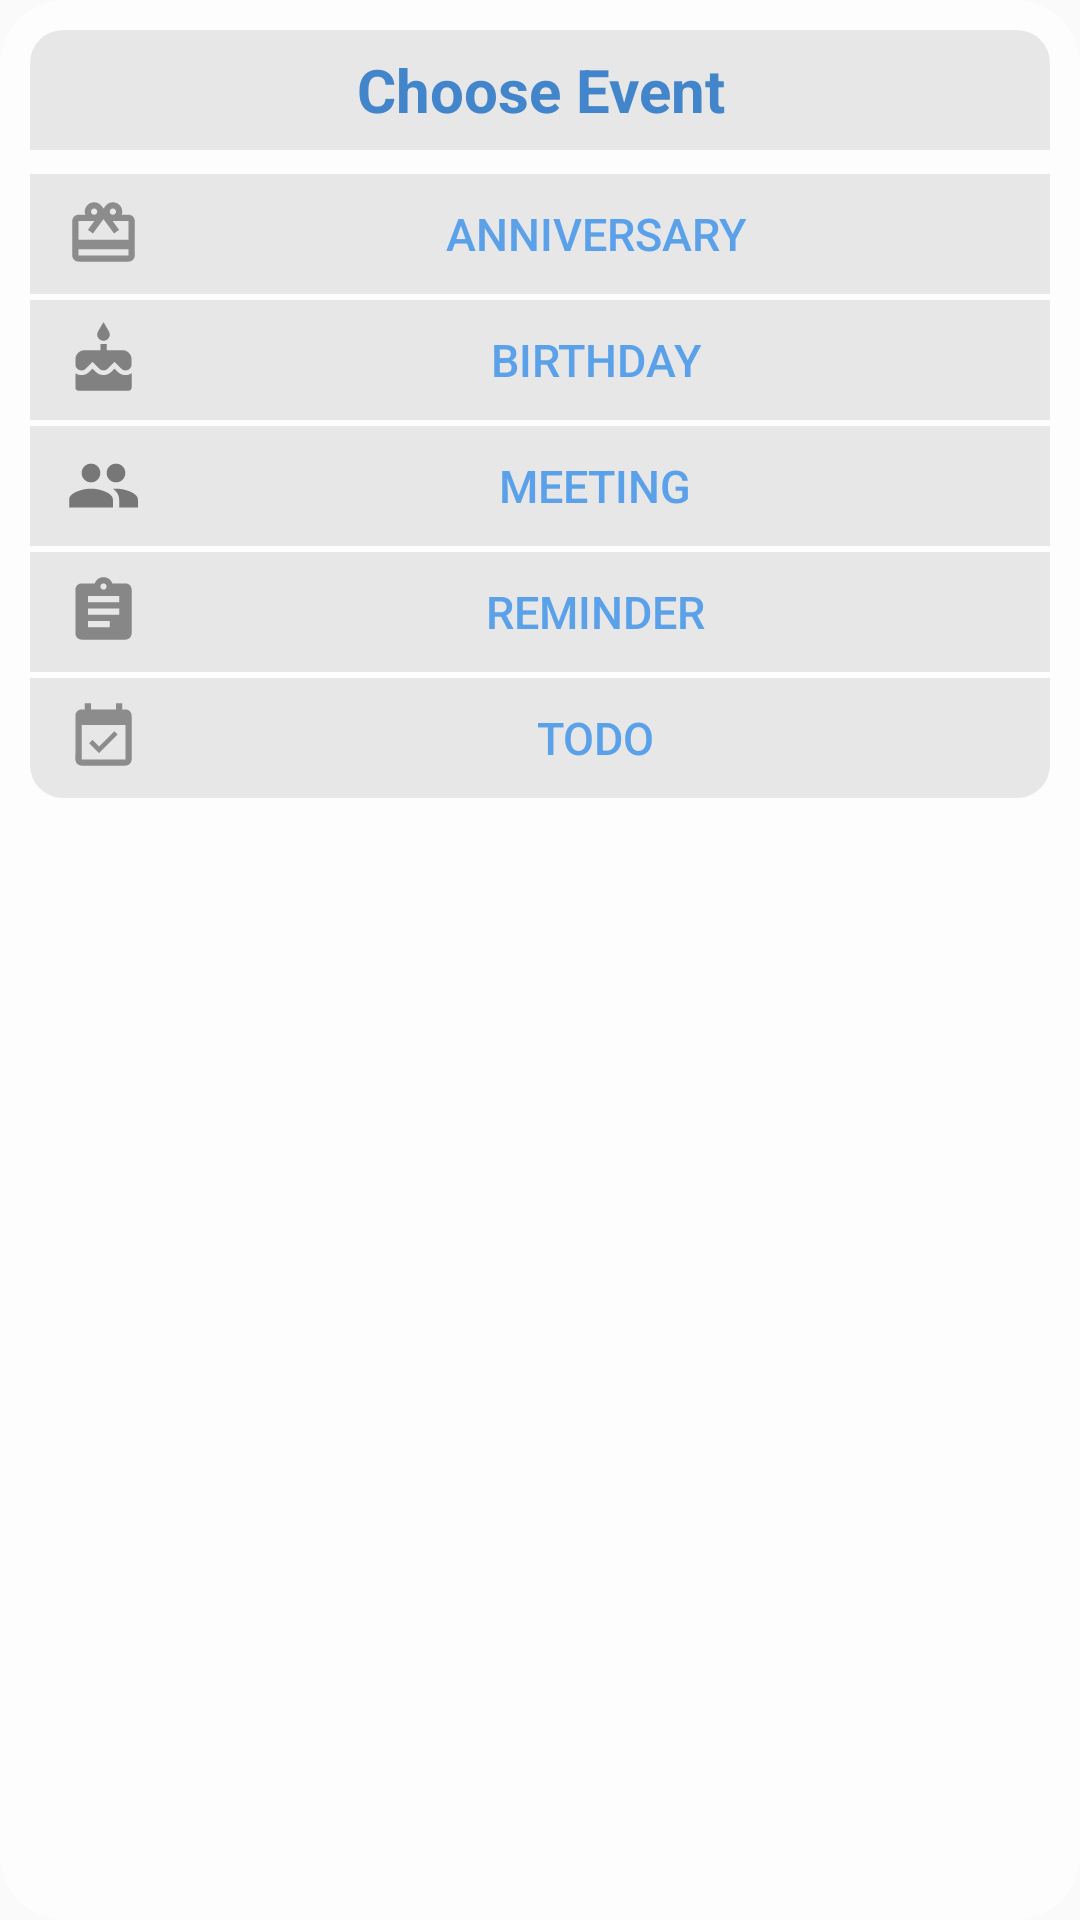

Locate icon controls on the screen. Image size 1080 × 1920, boxes as bbox=(x1, y1, x2, y2).
bdayicon: bbox=(75, 322, 132, 391)
gifticon: bbox=(72, 202, 135, 262)
